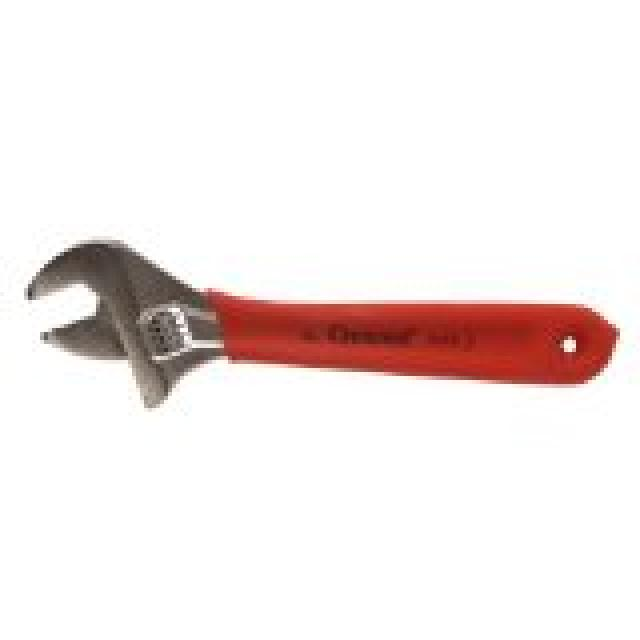wrench: (14, 225, 640, 442)
